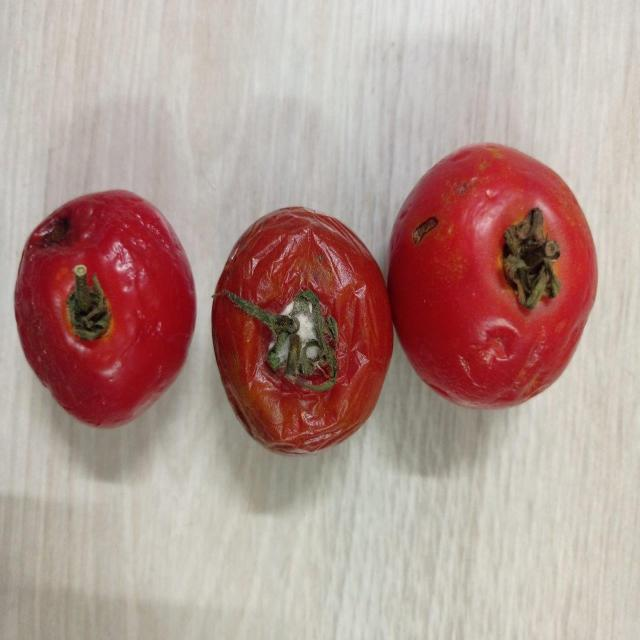Rotten: (210, 203, 394, 458), (12, 188, 196, 426)
